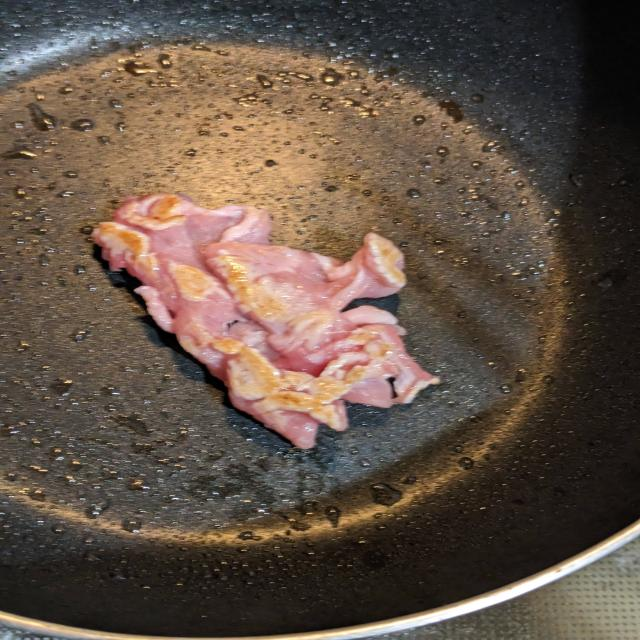NG undercooked pork,: (88, 183, 460, 461)
